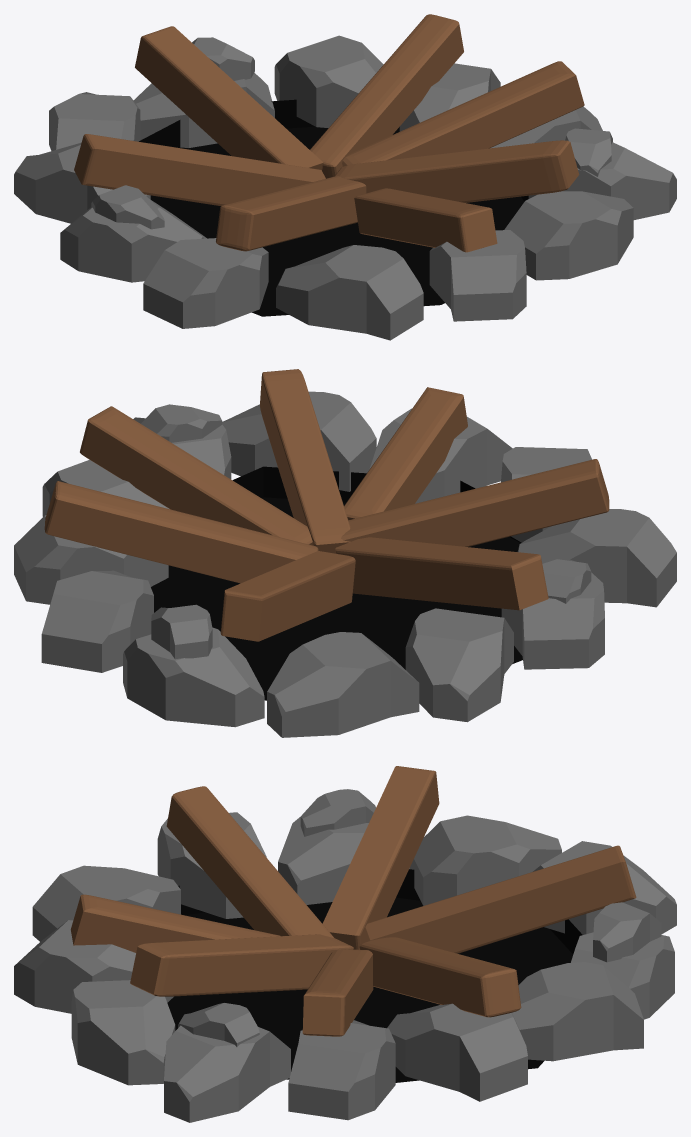
Rendered from CampFire 1.fbx.
3 renders of one model, top to bottom at view 1: azimuth 30°, elevation 25°; view 2: azimuth 150°, elevation 25°; view 3: azimuth 270°, elevation 25°, orthographic. The views are drawn at different scales.
Visible parts, largest first — view 1: Cube.014, Cube.021, Plane; view 2: Cube.014, Cube.021, Plane; view 3: Cube.014, Cube.021, Plane.
Part boxes in pixels (<box>): Cube.014: <box>14,35,676,340</box>; Cube.021: <box>74,14,584,252</box>; Plane: <box>139,99,528,316</box>; Cube.014: <box>14,391,676,737</box>; Cube.021: <box>44,369,609,641</box>; Plane: <box>151,466,522,700</box>; Cube.014: <box>14,789,676,1122</box>; Cube.021: <box>70,766,636,1036</box>; Plane: <box>167,869,582,1082</box>.
Bounding box in the file's own units: 110 × 21.95 × 113.
